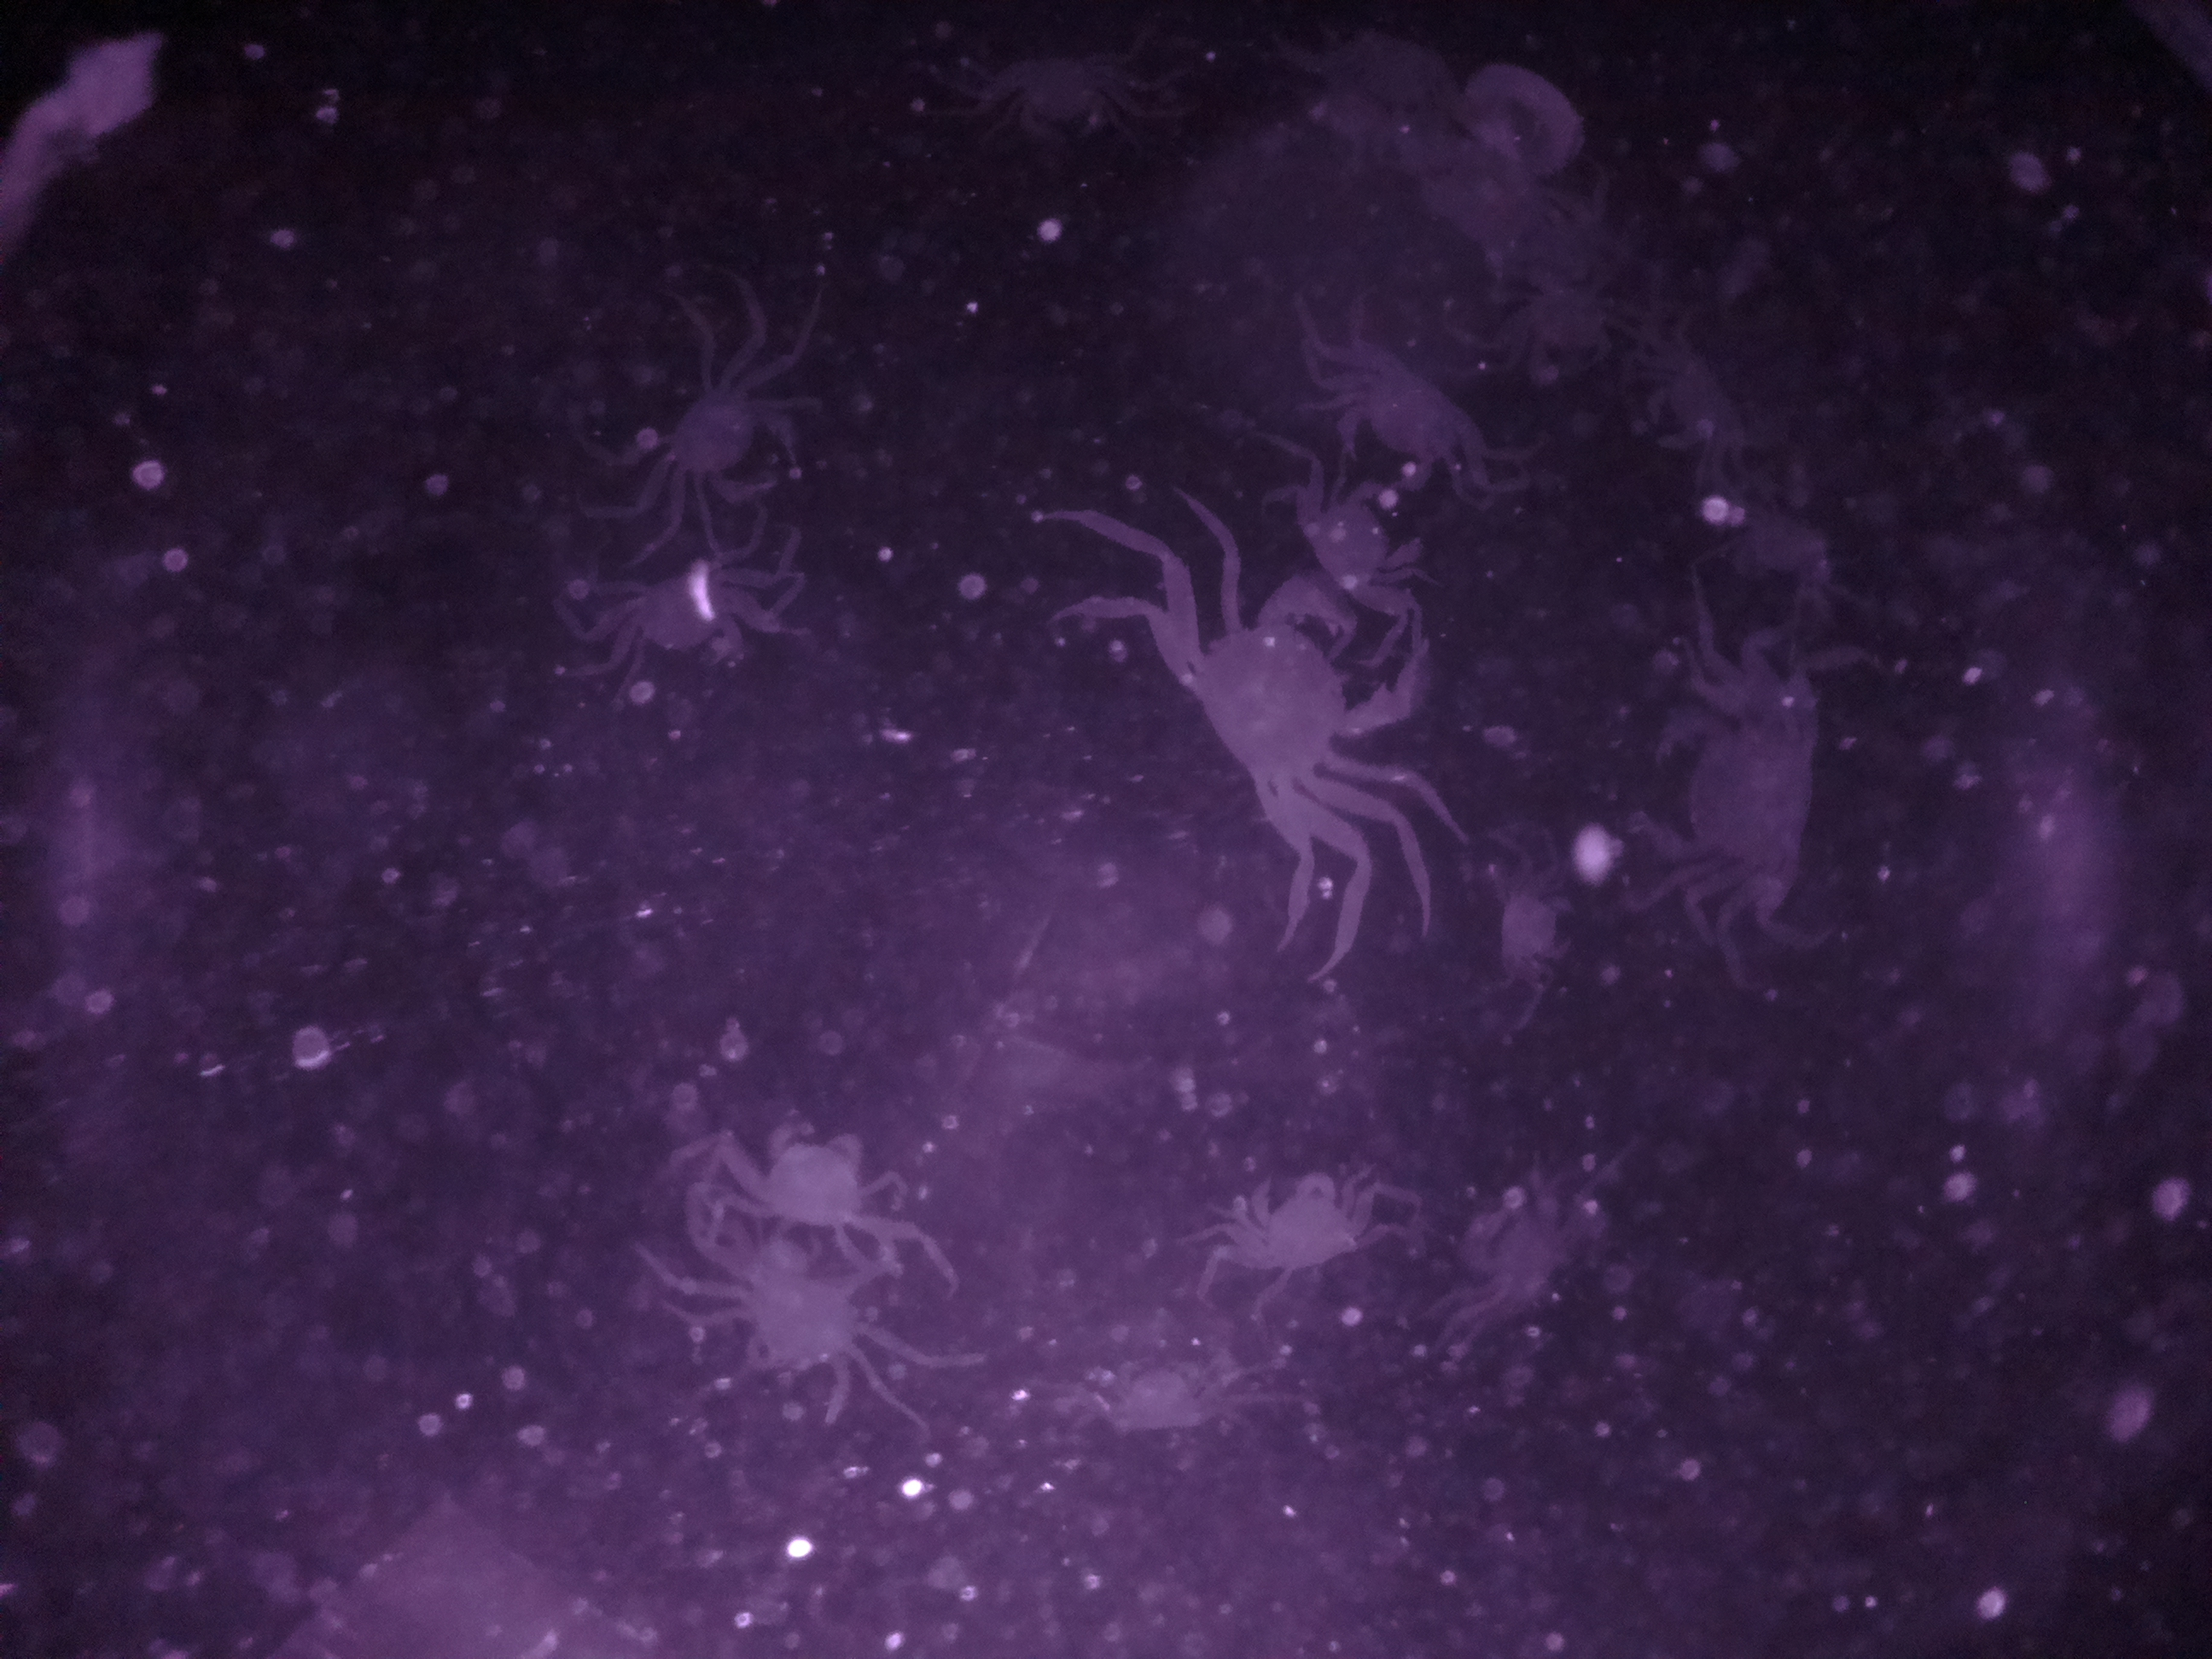Crab: (1129, 566, 1440, 854), (1611, 676, 1860, 911), (1317, 347, 1519, 507), (721, 1105, 909, 1260), (648, 364, 812, 519), (1211, 1154, 1395, 1284)
